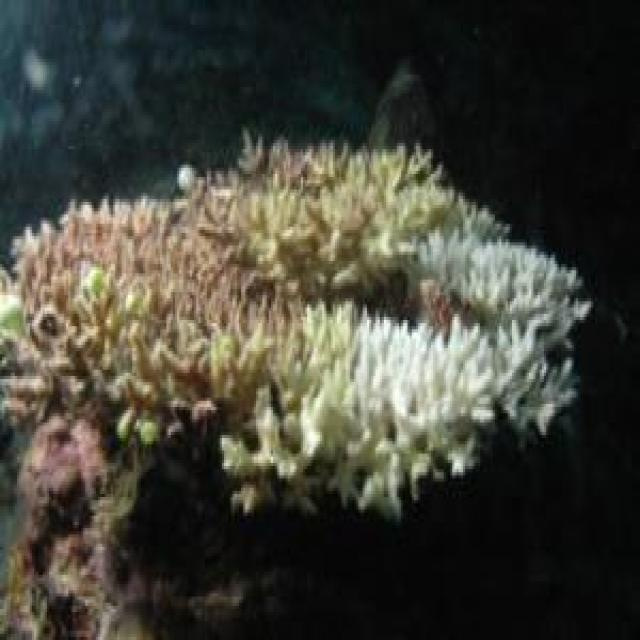bleached coral: (304, 249, 590, 516), (418, 206, 590, 358)
healthy coral: (16, 142, 265, 322)
